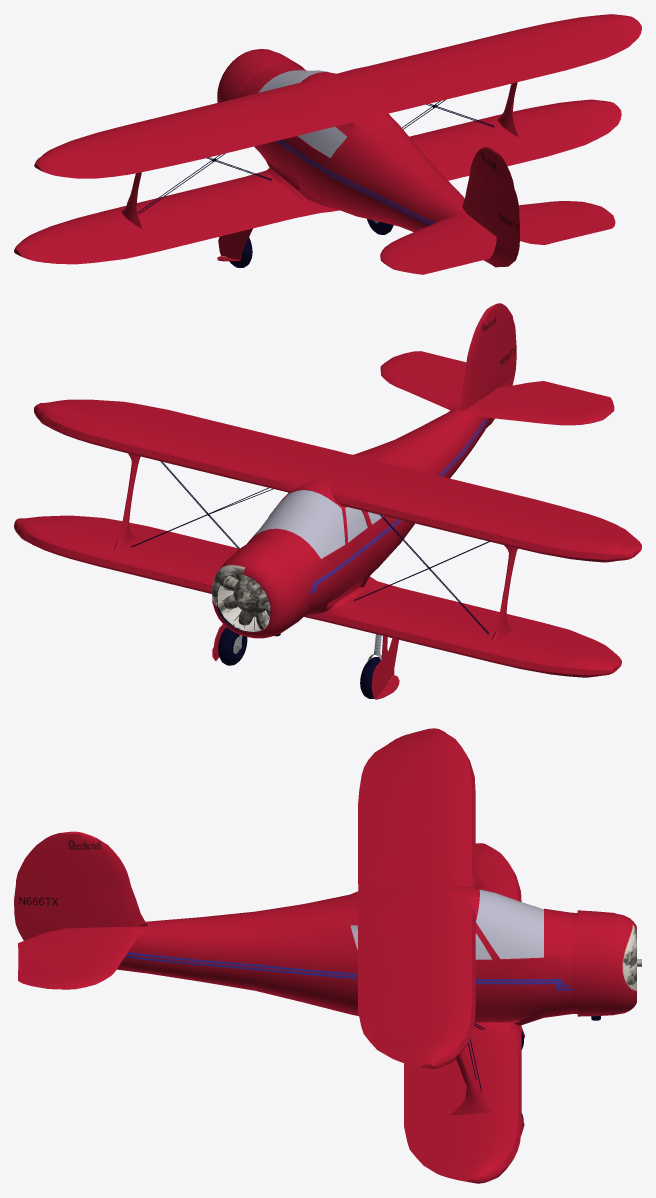
The model's file is StaticBeech_Model-17_aircraft_3.2.glb.
3 renders of one model, top to bottom at view 1: azimuth 30°, elevation 25°; view 2: azimuth 150°, elevation 25°; view 3: azimuth 270°, elevation 25°, orthographic. The views are drawn at different scales.
Parts seen in each view (by area): view 1: Beech17aircraft.1; view 2: Beech17aircraft.1; view 3: Beech17aircraft.1.
Boxes of the visible parts, x1,y1,x2,y2 form: Beech17aircraft.1: (14, 14, 641, 274); Beech17aircraft.1: (14, 303, 641, 699); Beech17aircraft.1: (14, 728, 641, 1183).
Bounding box in the file's own units: 980 × 371 × 777.
Materials: 1 (1 with a texture image).
